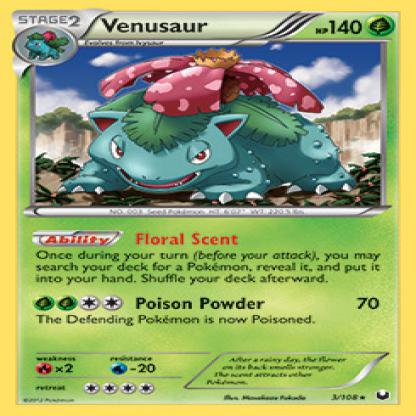Venusaur: (50, 62, 366, 205)
